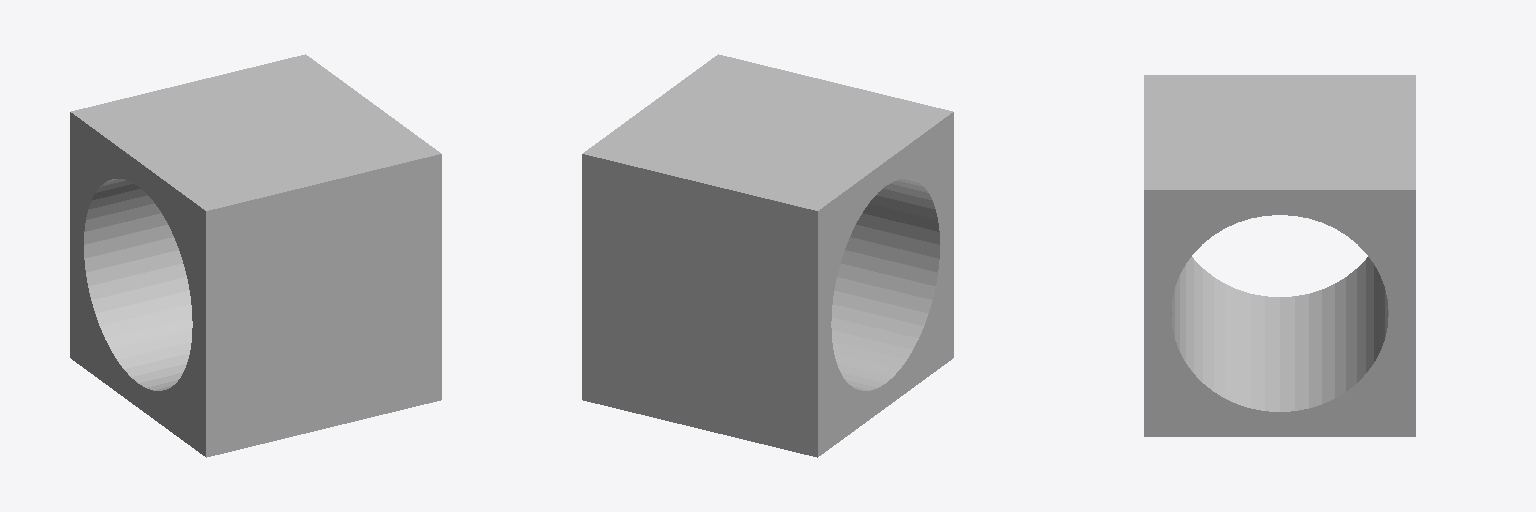
File: cube_thing.obj
3 views of the same model, side by side, from view 1: azimuth 30°, elevation 25°; view 2: azimuth 150°, elevation 25°; view 3: azimuth 270°, elevation 25° (orthographic).
Parts seen in each view (by area): view 1: Cube_Cube.002; view 2: Cube_Cube.002; view 3: Cube_Cube.002.
Boxes of the visible parts, <box> form: Cube_Cube.002: <box>70,54,441,457</box>; Cube_Cube.002: <box>582,54,953,457</box>; Cube_Cube.002: <box>1144,75,1415,436</box>.
Size of the model in its own units: 10 by 10 by 10.